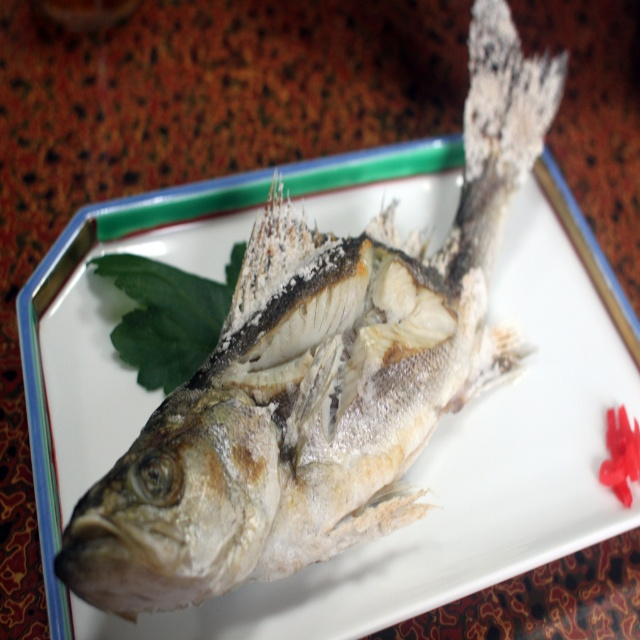Fish: (54, 0, 570, 623)
